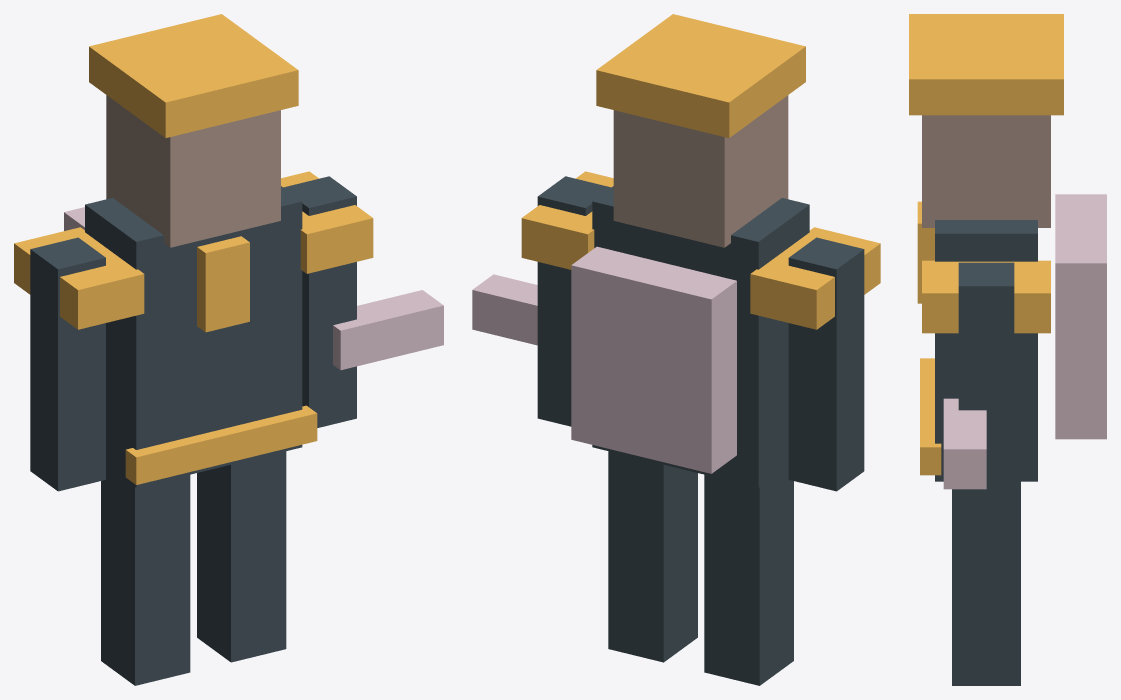
The model's file is 15_talia_signalborn_captain_under_relay.glb.
The picture shows the model from 3 angles, left to right: view 1: azimuth 30°, elevation 25°; view 2: azimuth 150°, elevation 25°; view 3: azimuth 270°, elevation 25°; orthographic projection.
Parts seen in each view (by area): view 1: Talia Signalborn, Captain under Relay; view 2: Talia Signalborn, Captain under Relay; view 3: Talia Signalborn, Captain under Relay.
Boxes of the visible parts, x1,y1,x2,y2 form: Talia Signalborn, Captain under Relay: (14,14,443,685); Talia Signalborn, Captain under Relay: (472,14,880,685); Talia Signalborn, Captain under Relay: (909,14,1106,685).
Bounding box in the file's own units: 1.05 × 1.58 × 0.4709.
